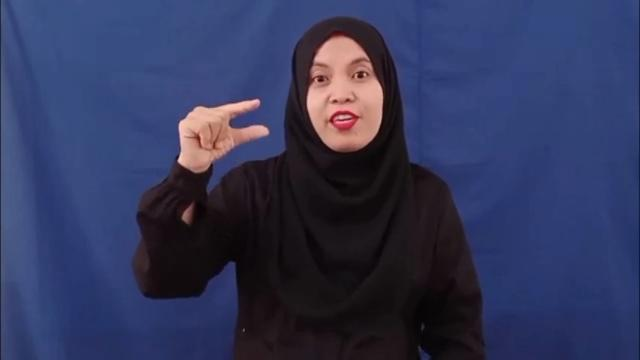G: (174, 97, 270, 167)
